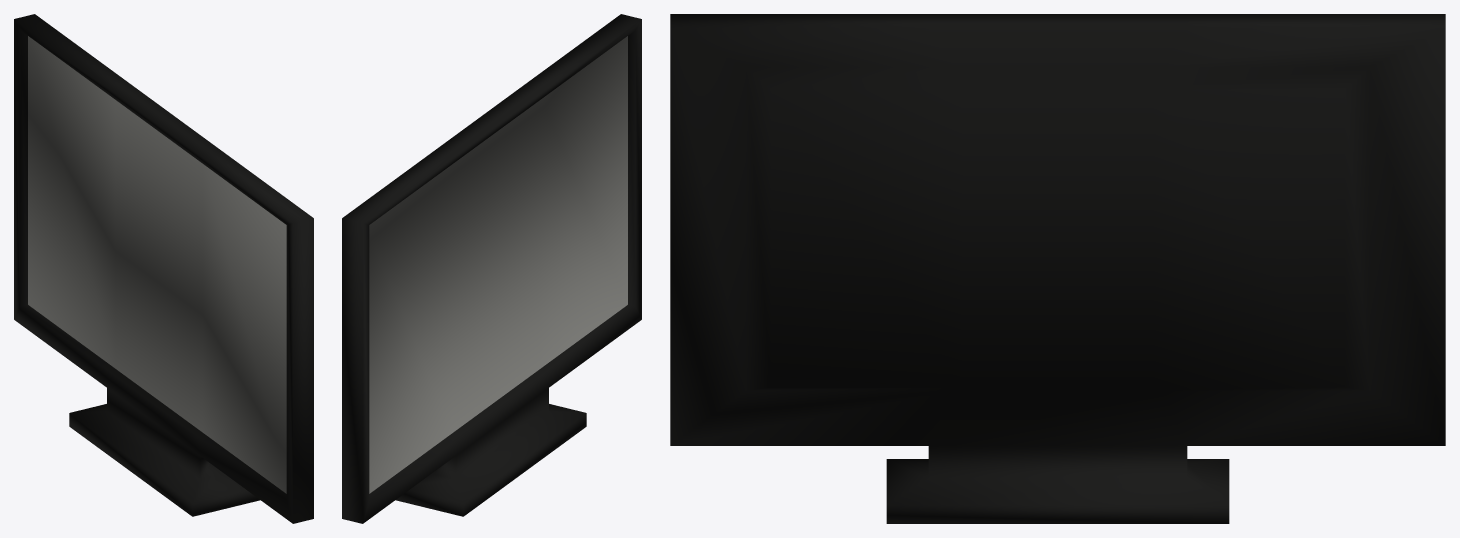
Rendered from Monitor.fbx.
3 renders of one model, left to right at view 1: azimuth 30°, elevation 25°; view 2: azimuth 150°, elevation 25°; view 3: azimuth 270°, elevation 25°, orthographic. The views are drawn at different scales.
Visible parts, largest first — view 1: Cube.8162; view 2: Cube.8162; view 3: Cube.8162.
Part boxes in pixels (x1,y1,x2,y2): Cube.8162: (14,14,313,523); Cube.8162: (342,14,641,523); Cube.8162: (670,14,1445,523).
Bounding box in the file's own units: 20.36 × 99 × 145.
1 material, 1 textured.
